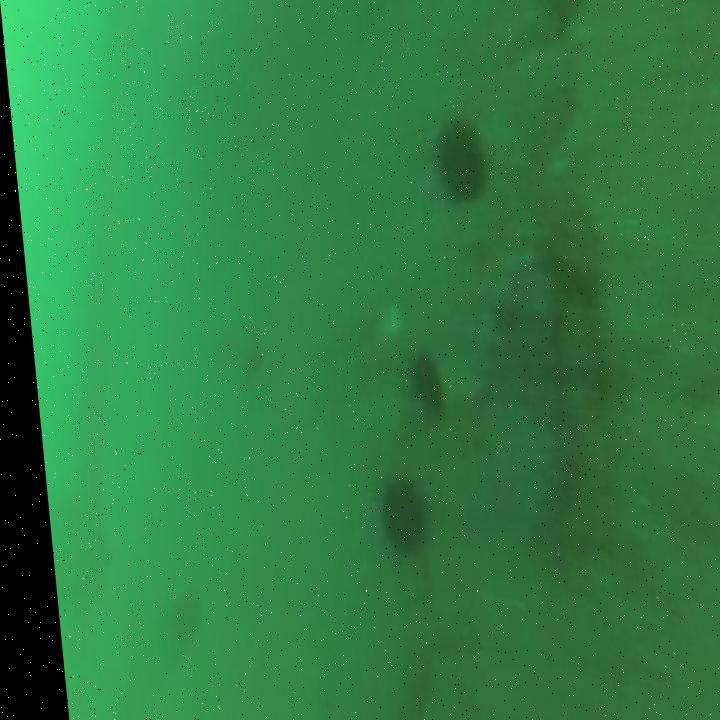echinus: (360, 457, 434, 567), (422, 110, 490, 210), (390, 347, 445, 432)
